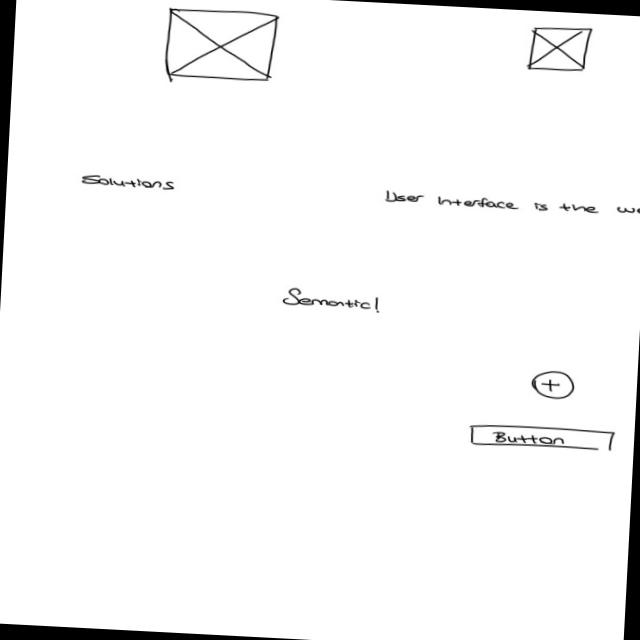button: (468, 423, 618, 454)
icon-button: (531, 370, 577, 403)
image: (161, 8, 281, 87), (527, 24, 597, 74)
label: (383, 188, 640, 218), (281, 286, 385, 316), (79, 172, 177, 194)
